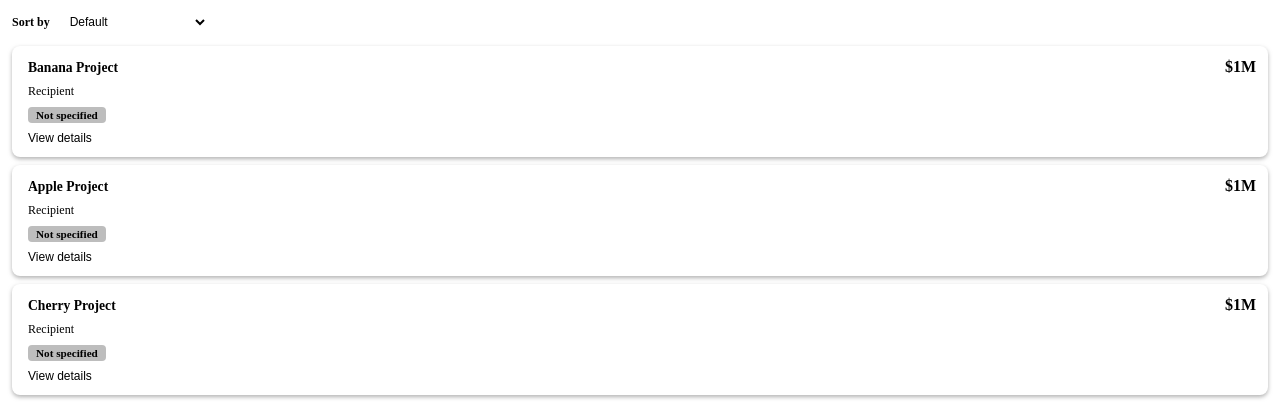
CountryFundingPanelTable › compact card sorting › sorts the cards by the selected column ascending
This screenshot has width=1280, height=416.
Select "Title" in the dropdown with class "card-sort-select": (133, 22) [58,10,208,34]
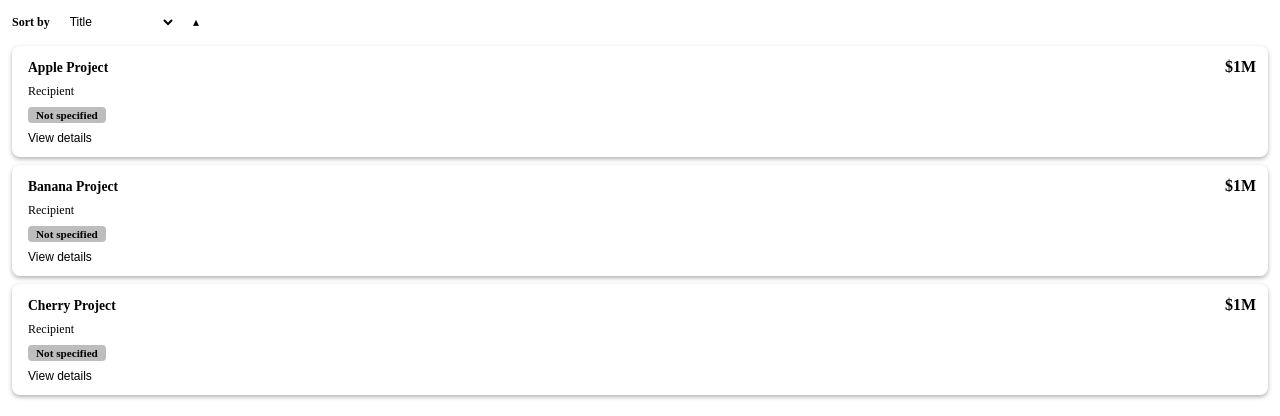
Expected: the elements with class "grant-card-title" read "Apple Project", "Banana Project", "Cherry Project", in this order, [28,60,108,76]; [28,179,118,195]; [28,298,116,314]
